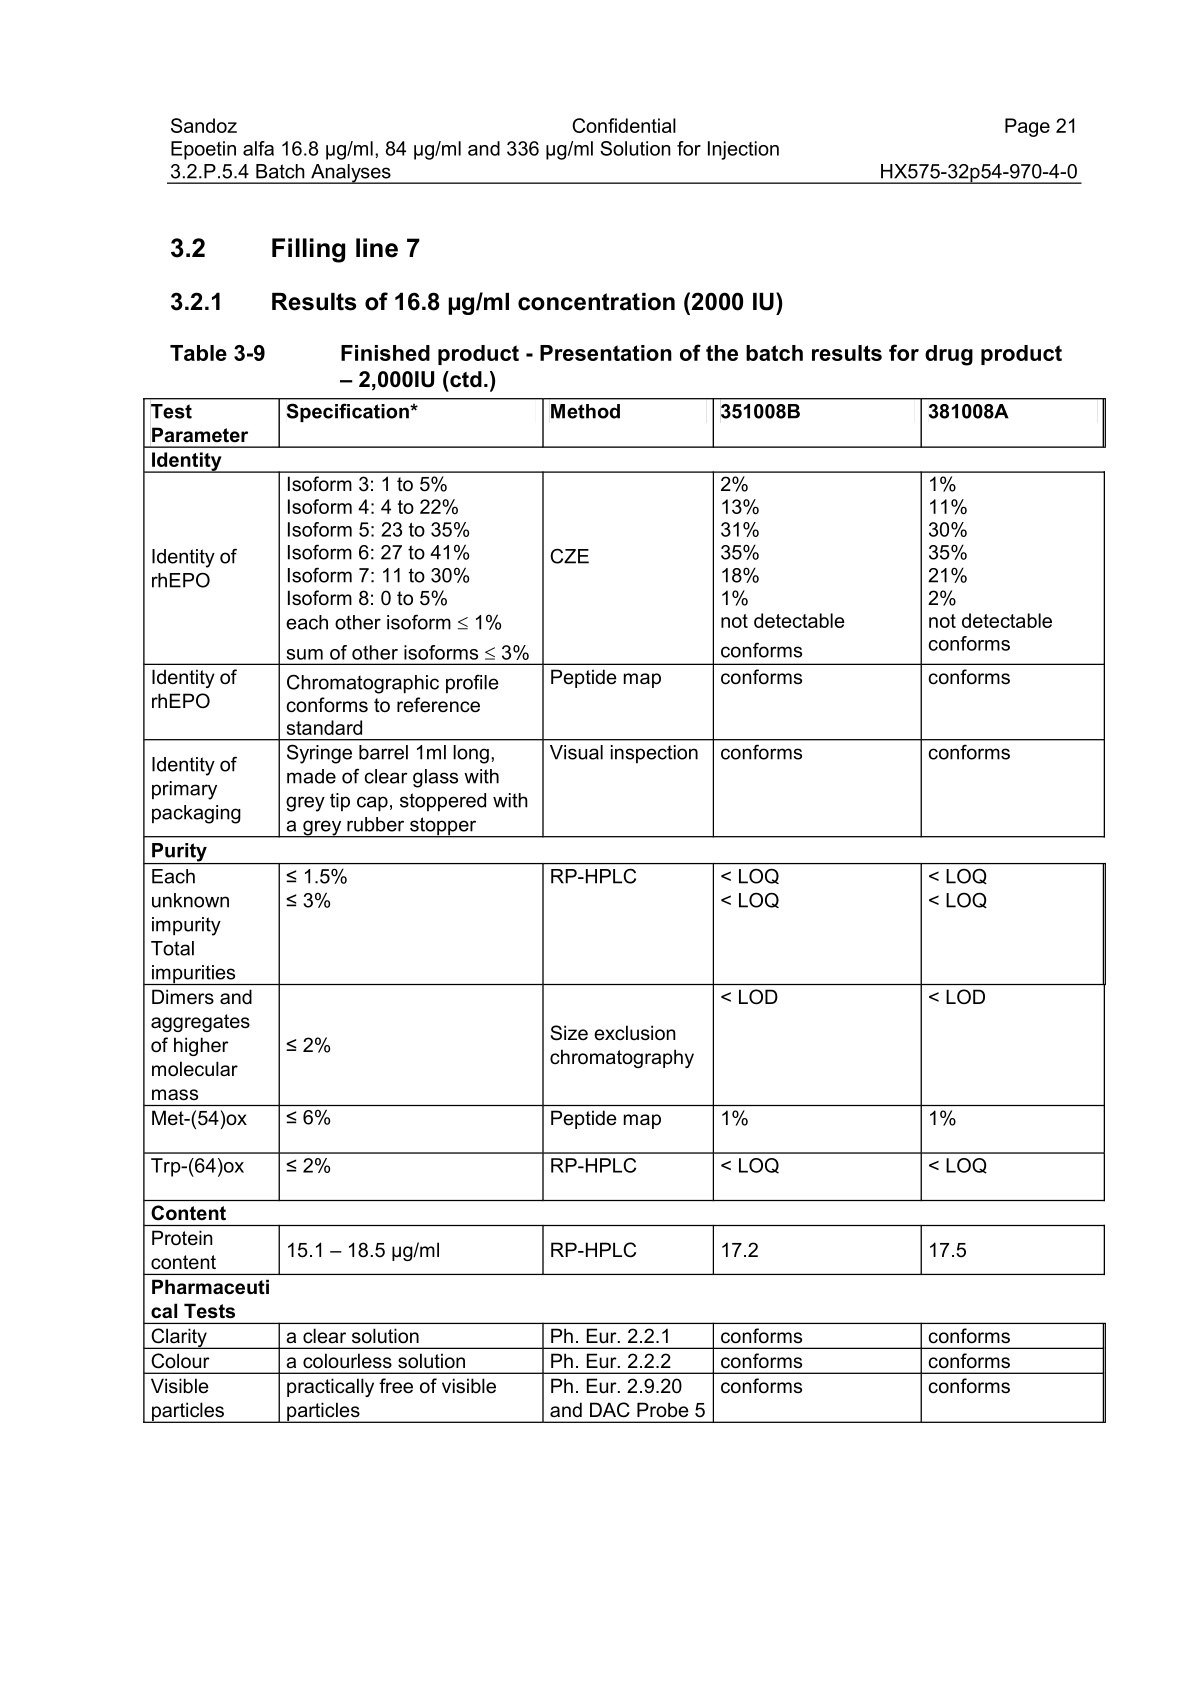merged_cells: (140, 397, 1109, 1424)
